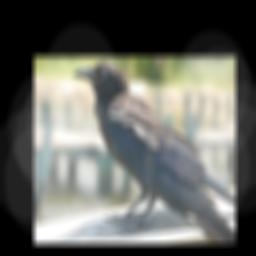Crow: (71, 61, 234, 244)
